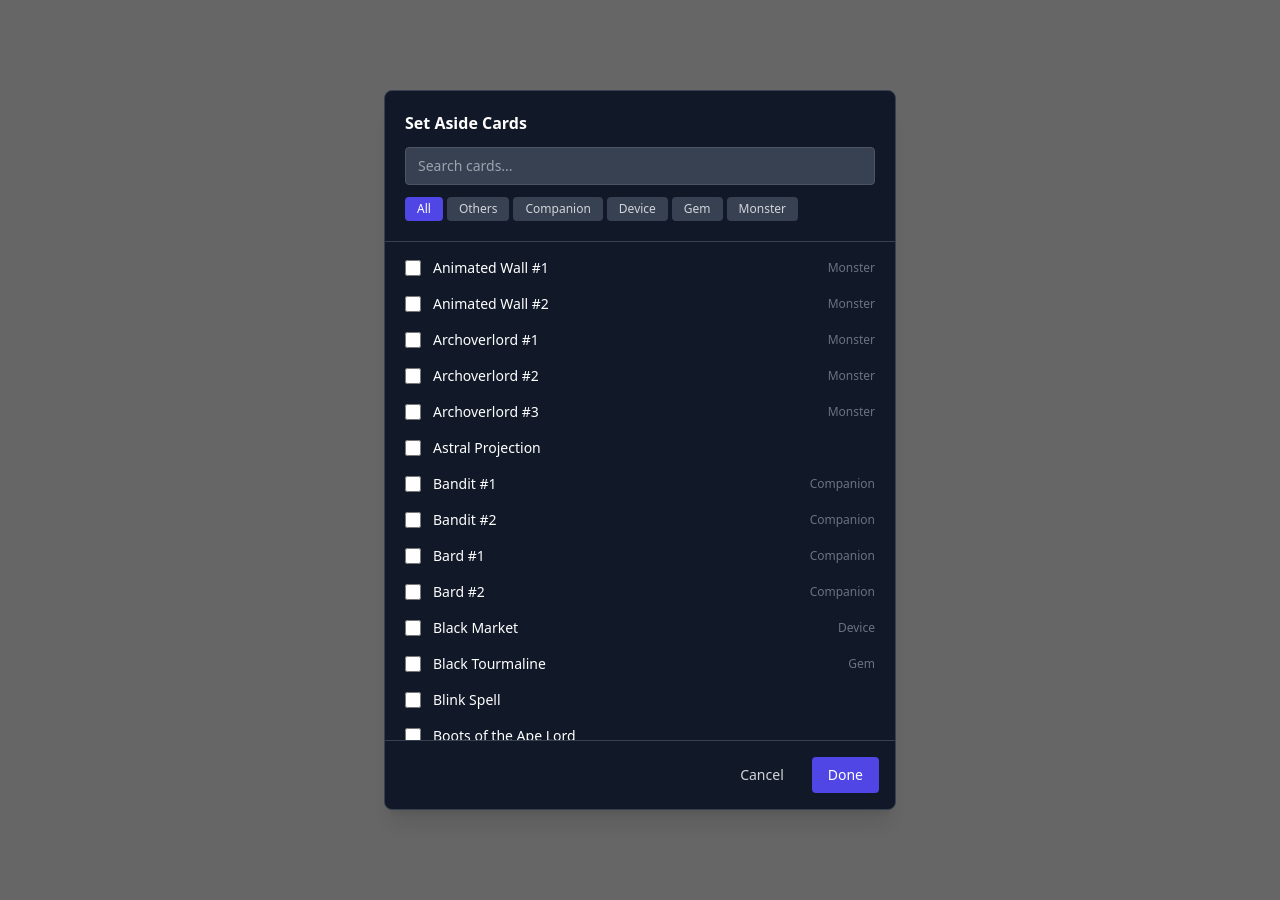
Test: CardPickerModal › filtering by Companion type shows only companions
Click the button "Companion": (558, 209) [514,197,603,221]
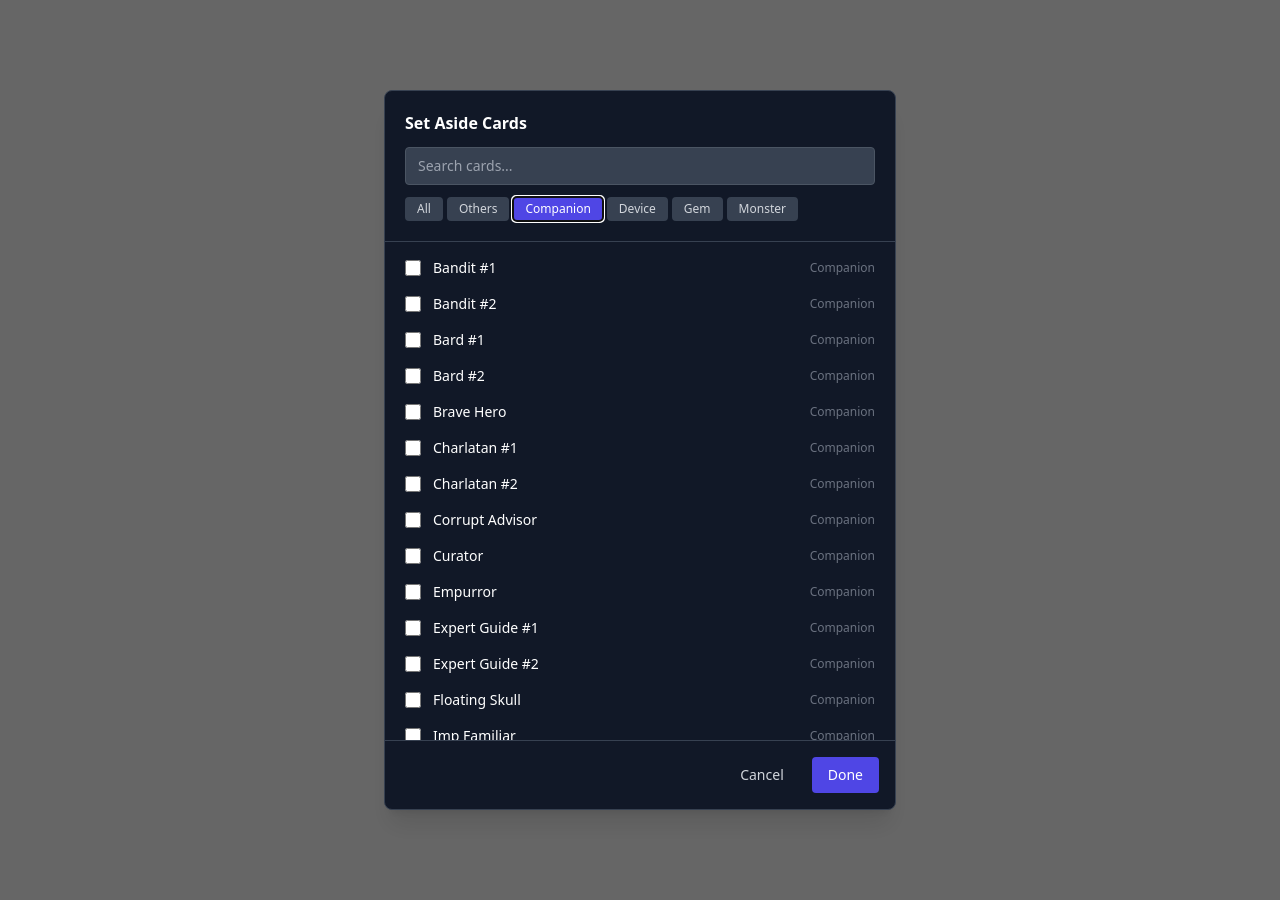
Check: the text "Empurror" is shown, box [433,582,497,601]
